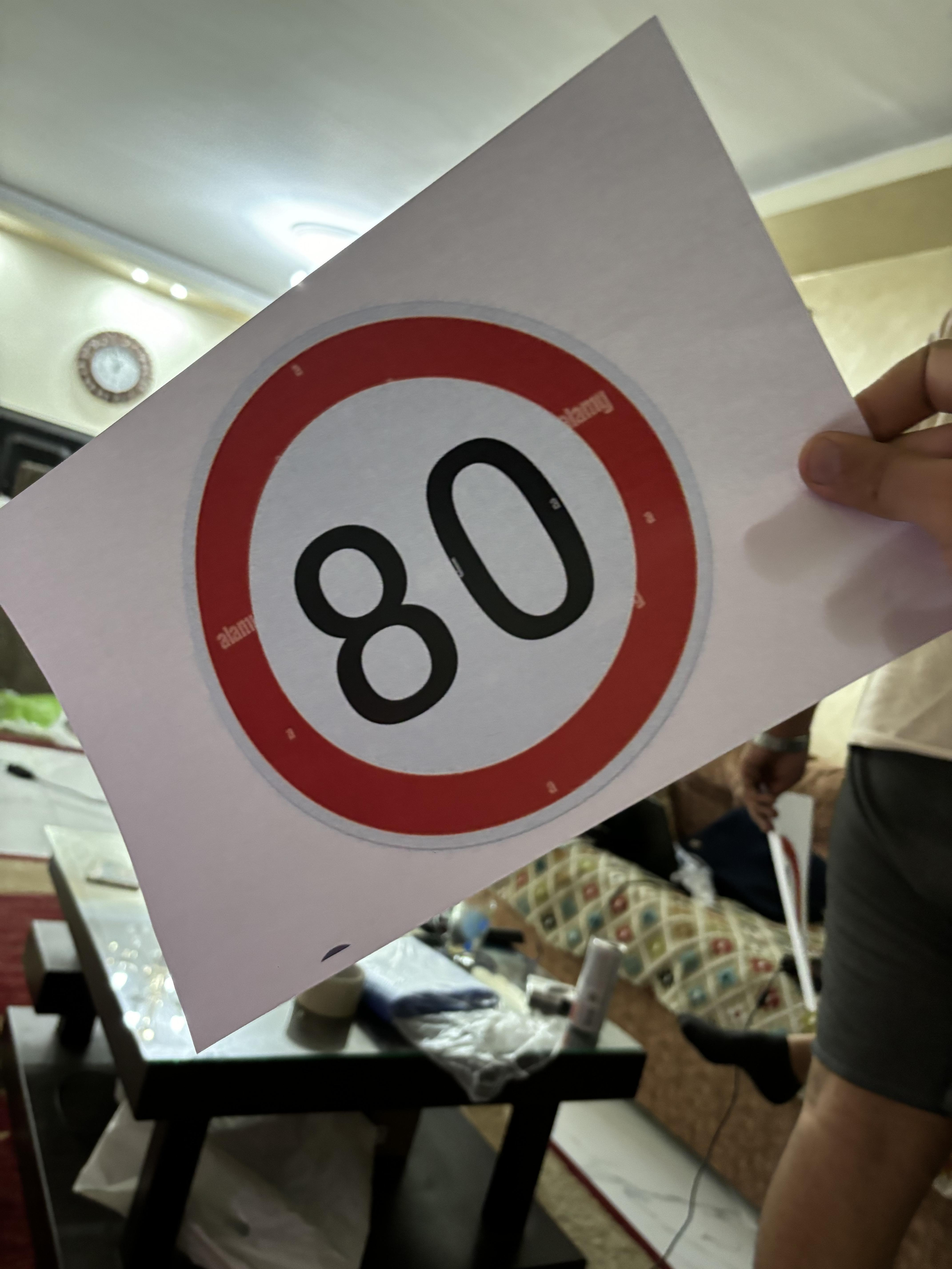80-Speed: (172, 294, 719, 863)
